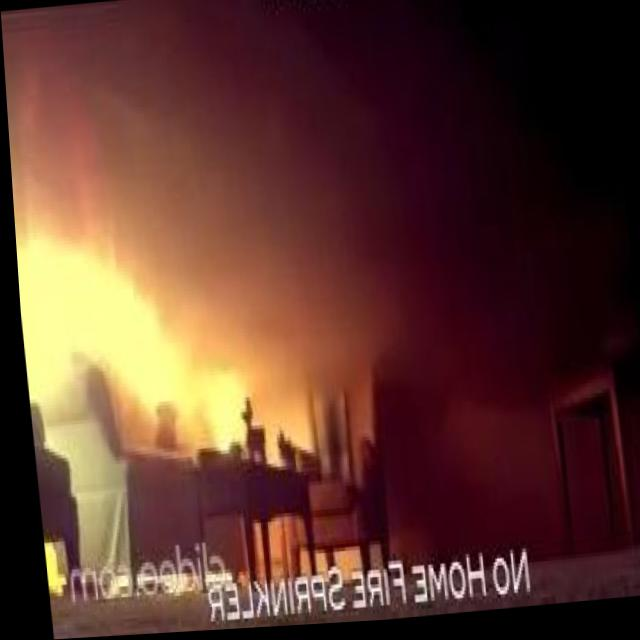fire: (12, 217, 239, 450)
